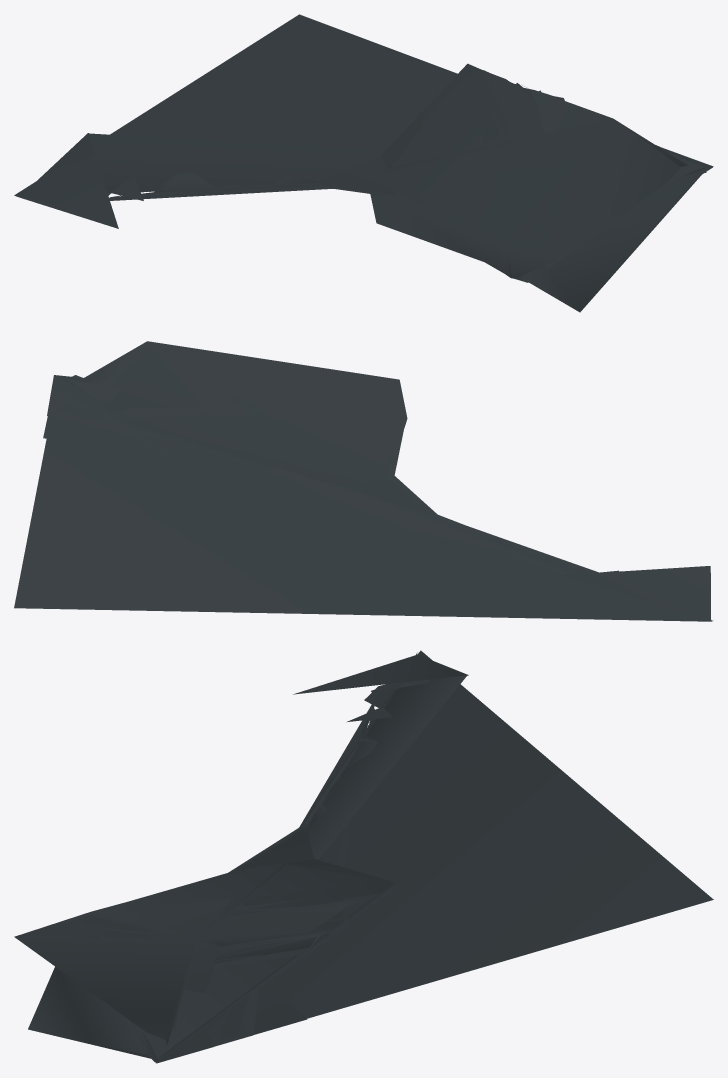
3 views of the same model, one above another, from view 1: azimuth 30°, elevation 25°; view 2: azimuth 150°, elevation 25°; view 3: azimuth 270°, elevation 25° (orthographic). The views are drawn at different scales.
Parts seen in each view (by area): view 1: Material0-material-material; view 2: Material0-material-material; view 3: Material0-material-material.
Part boxes in pixels (x1,y1,x2,y2): Material0-material-material: (14, 14, 713, 312); Material0-material-material: (14, 341, 713, 621); Material0-material-material: (14, 650, 713, 1063).
Size of what is drawn, in the model's own units: 1.02e-43 by 2.2e-44 by 8.32e-44.
